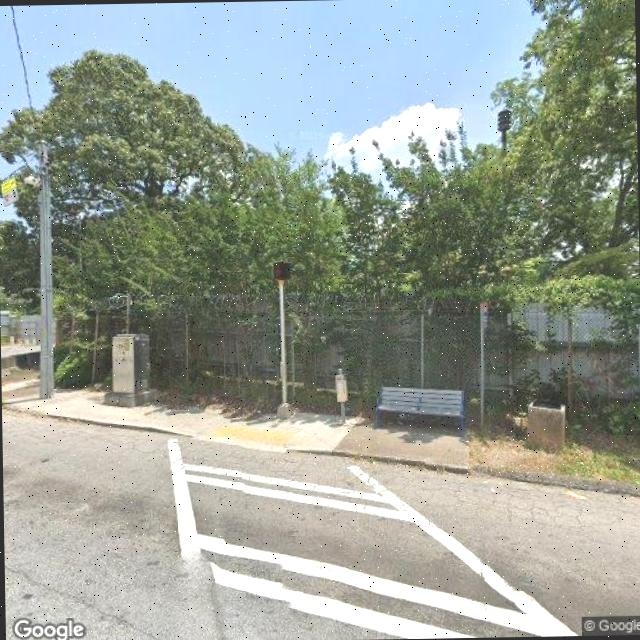seating: (373, 382, 465, 442)
trash_can: (526, 398, 566, 452)
